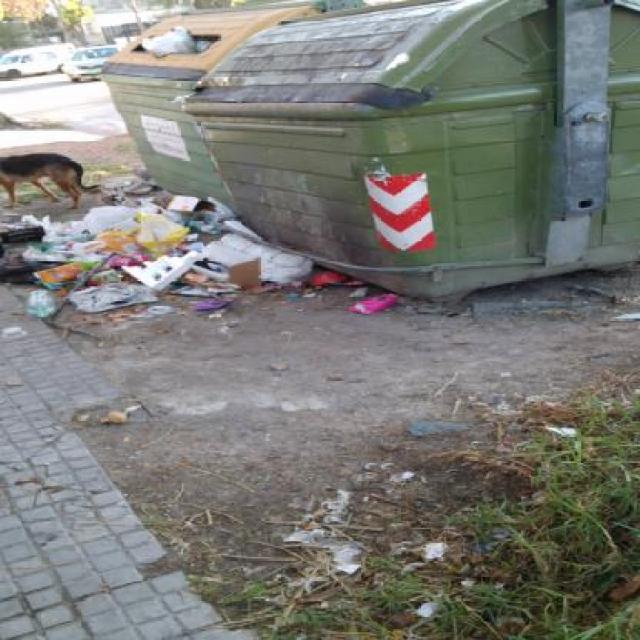garbage: (16, 179, 299, 312)
